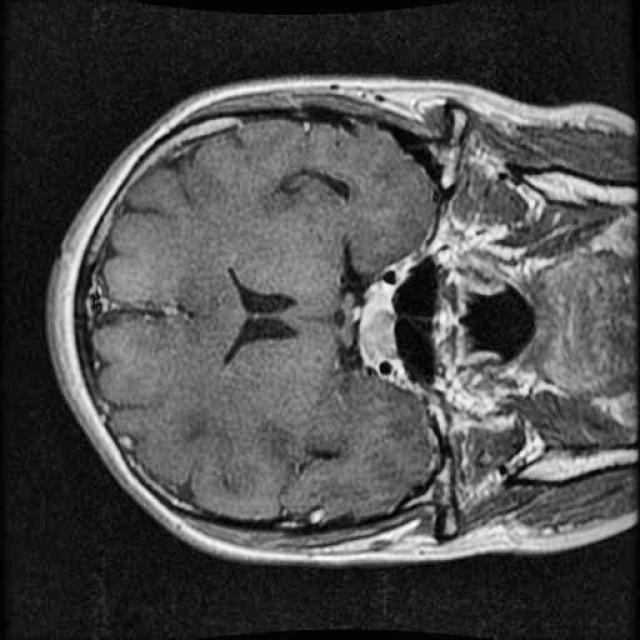Tumor: (351, 281, 409, 382)
